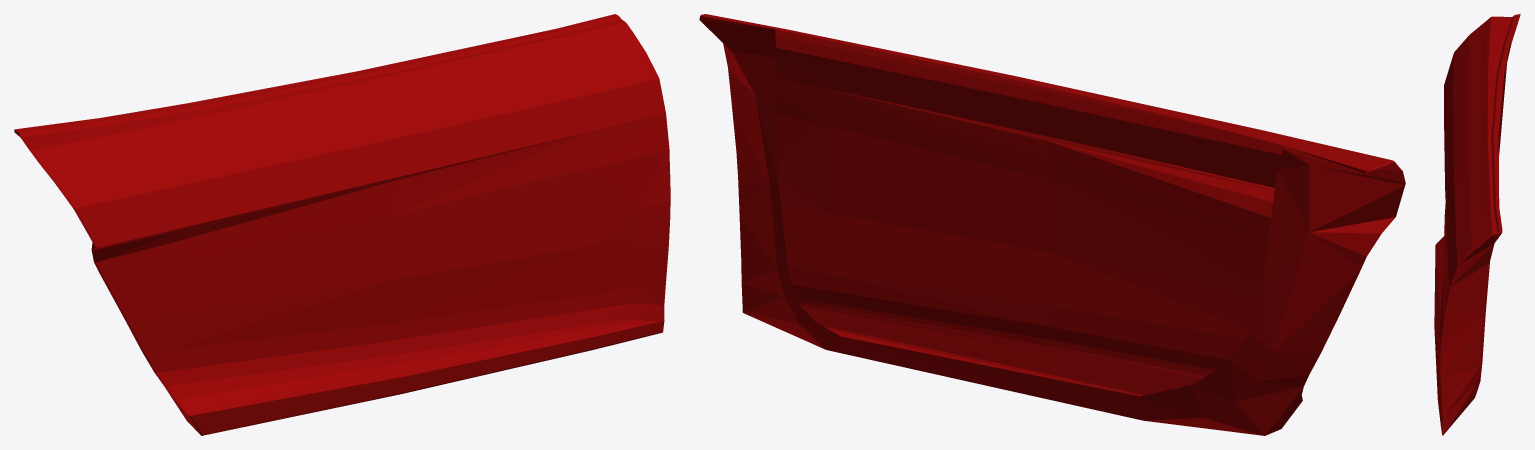
Rendered from door_right.002.dae.
3 renders of one model, left to right at view 1: azimuth 30°, elevation 25°; view 2: azimuth 150°, elevation 25°; view 3: azimuth 270°, elevation 25°, orthographic. The views are drawn at different scales.
Parts seen in each view (by area): view 1: door_right; view 2: door_right; view 3: door_right.
Boxes of the visible parts, x1,y1,x2,y2 form: door_right: [14, 14, 670, 435]; door_right: [699, 14, 1405, 435]; door_right: [1434, 14, 1520, 435].
Bounding box in the file's own units: 157 × 27.38 × 76.12.
